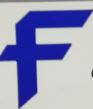Fisher: (1, 9, 92, 109)
